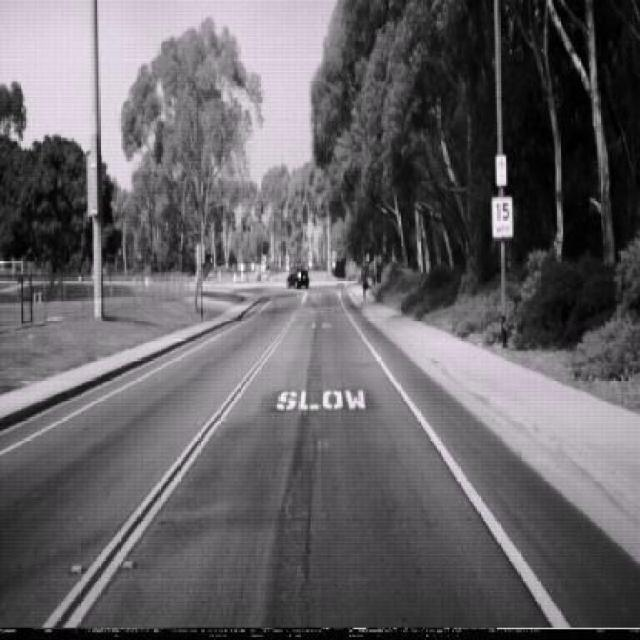speedLimit15: (490, 196, 512, 238)
